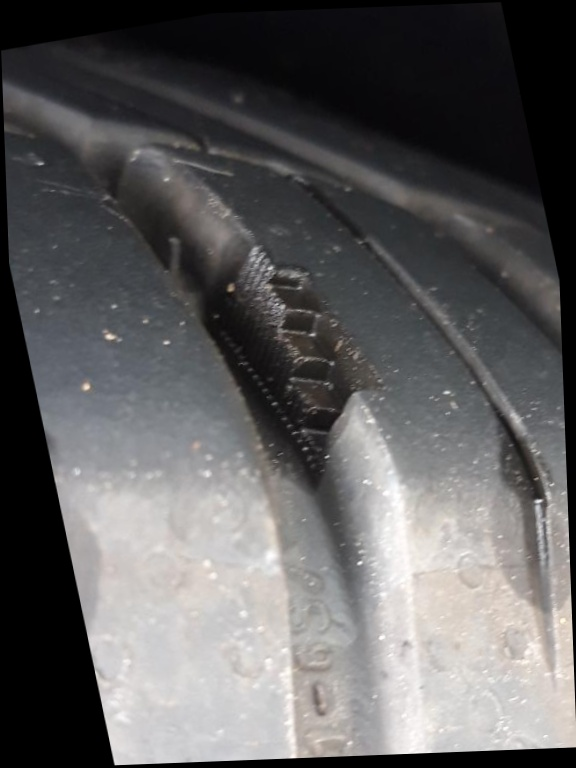temoin:90: (199, 218, 414, 501)
